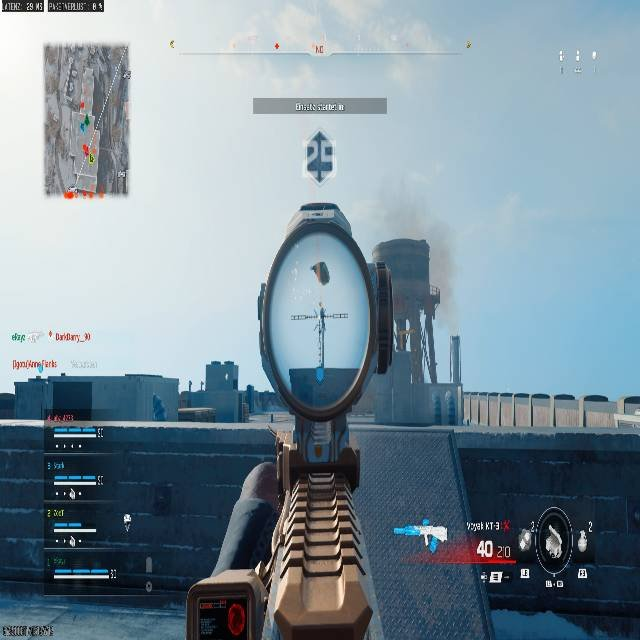head: (152, 393, 158, 400)
player: (303, 129, 336, 184), (151, 393, 166, 420)
